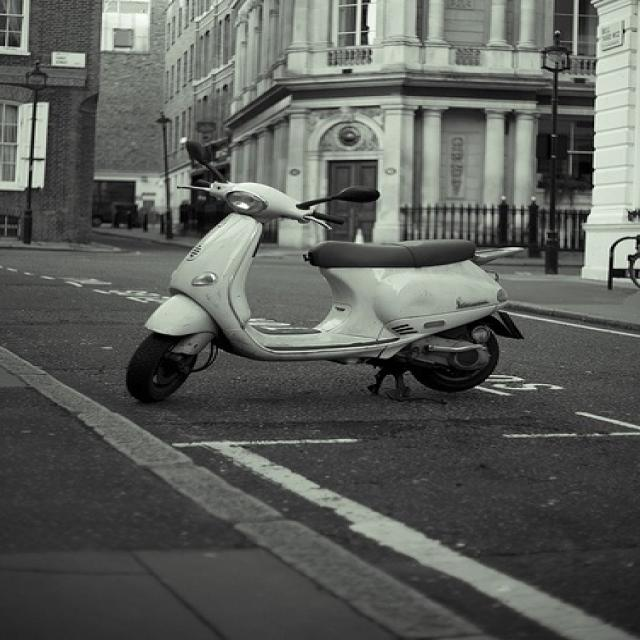scooter: (126, 141, 522, 401)
